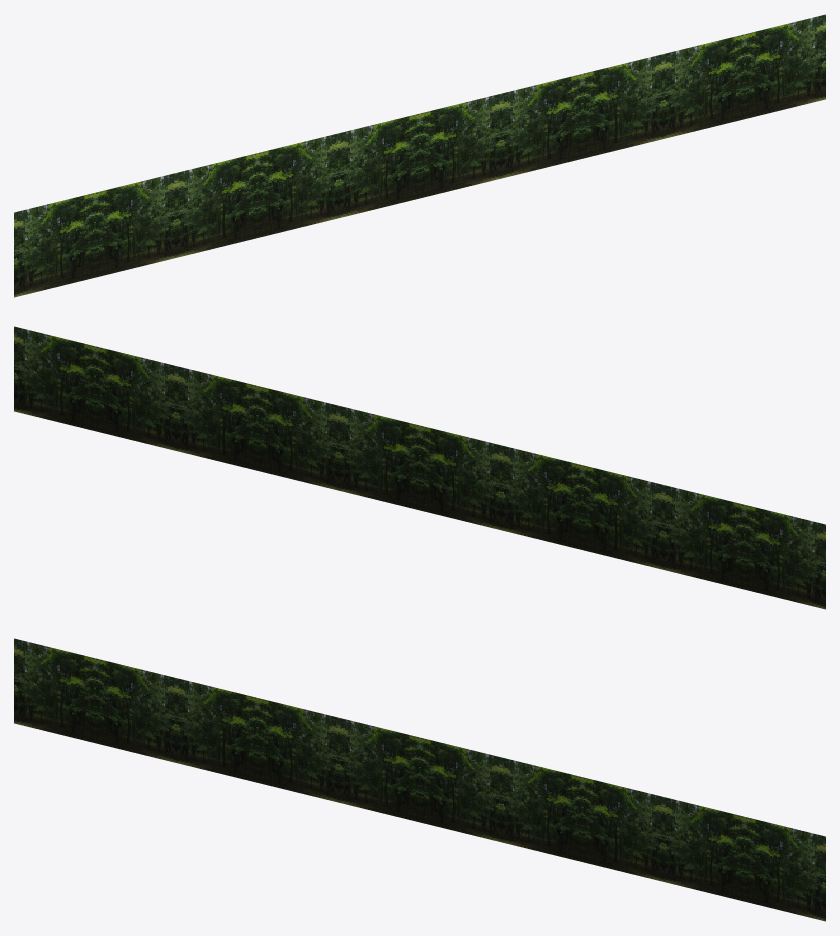
Rendered from map_wall.fbx.
3 views of the same model, one above another, from view 1: azimuth 30°, elevation 25°; view 2: azimuth 150°, elevation 25°; view 3: azimuth 330°, elevation 25° (orthographic).
Visible parts, largest first — view 1: TreePlane; view 2: TreePlane; view 3: TreePlane.
Boxes of the visible parts, x1=… form: TreePlane: x1=14, y1=14, x2=825, y2=297; TreePlane: x1=14, y1=326, x2=825, y2=609; TreePlane: x1=14, y1=638, x2=825, y2=921.
Size of the model in its own units: 10000 by 1000 by 4.37e-05.
